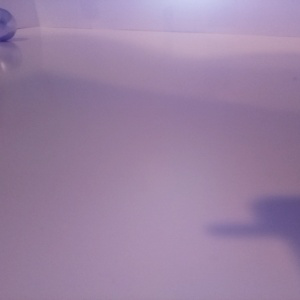alive_ball: (1, 9, 17, 41)
